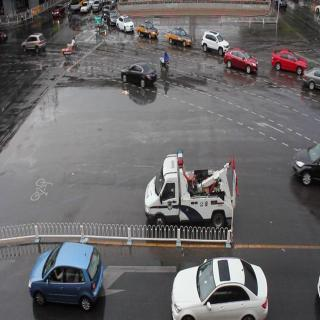Car: (142, 149, 235, 227), (167, 259, 273, 320), (26, 242, 107, 313), (271, 46, 307, 80), (225, 46, 258, 80), (119, 61, 157, 90), (203, 28, 228, 60), (166, 25, 194, 51), (20, 35, 47, 58), (136, 21, 157, 44), (117, 15, 135, 35), (106, 8, 119, 28), (52, 4, 66, 20), (81, 2, 90, 15)
